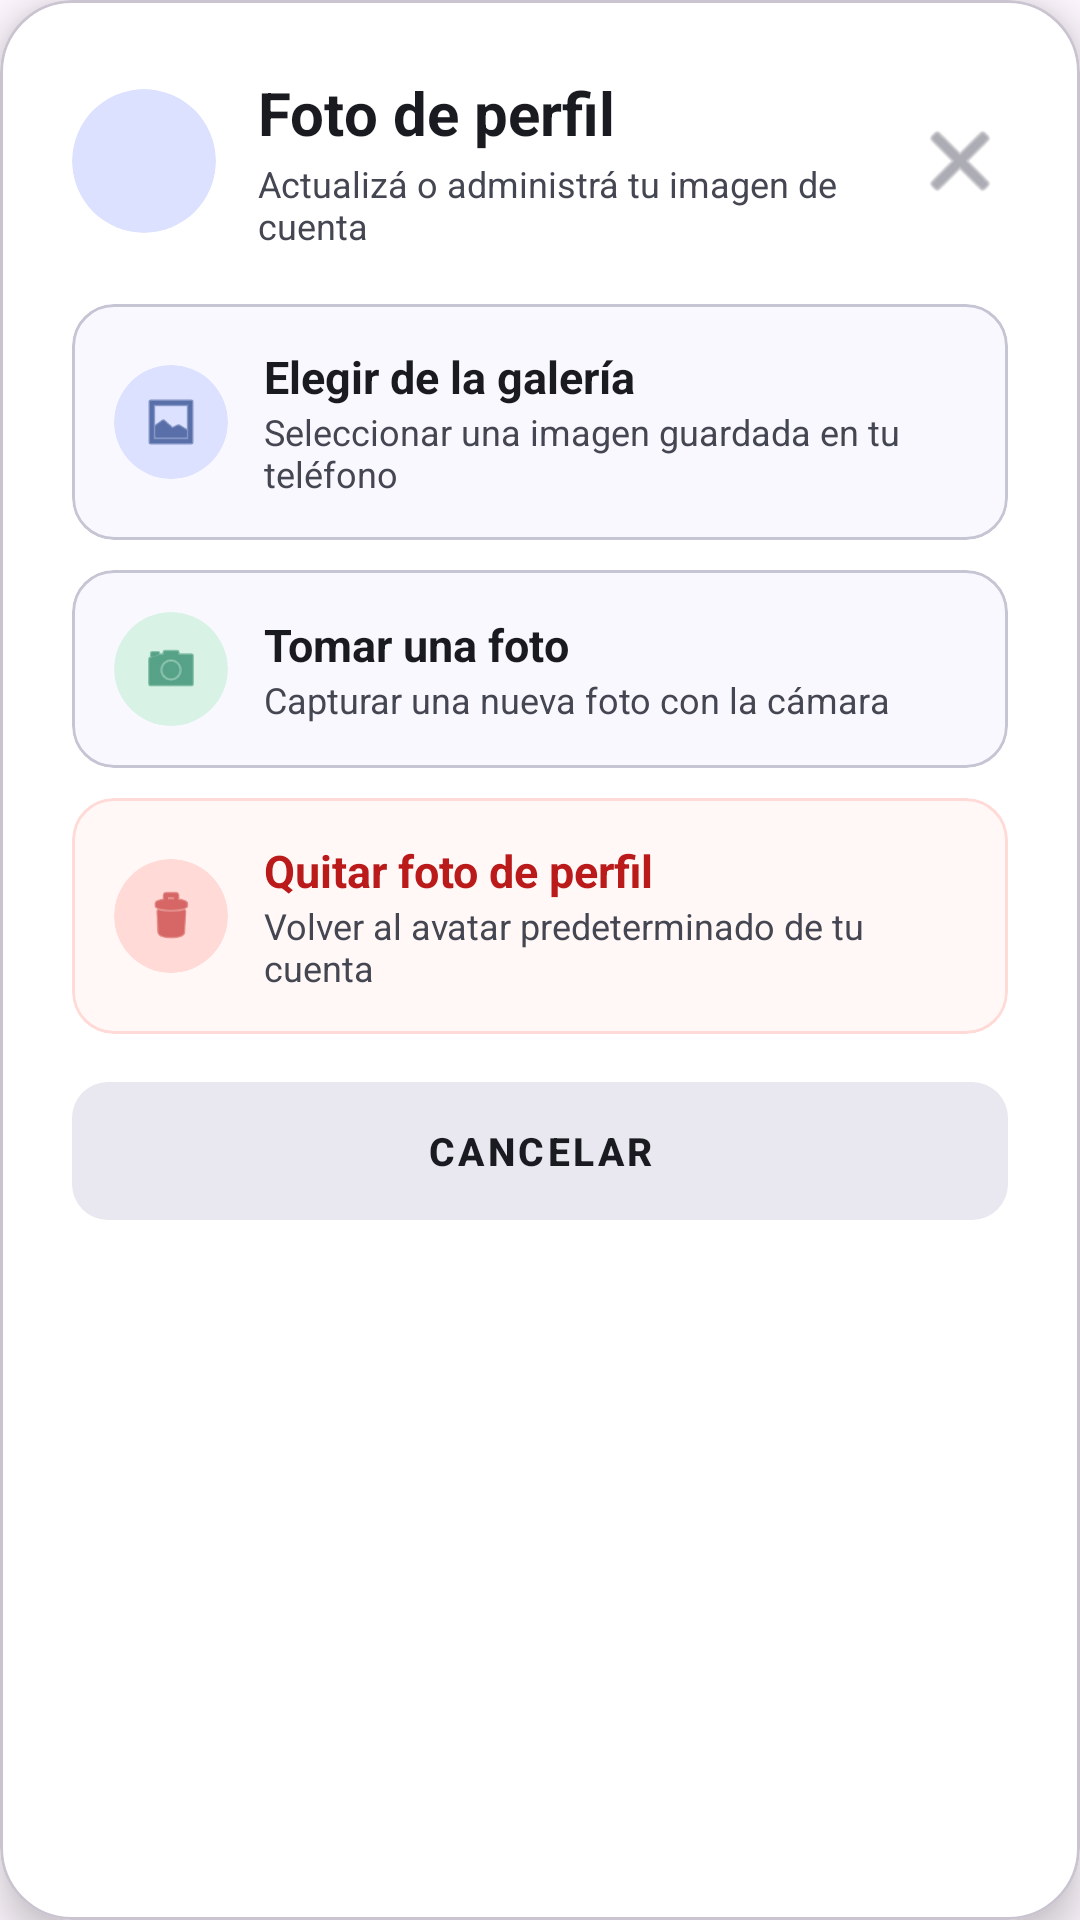

Icons on this 1080px×1920px Android screen, each with the point to tap as (x,y):
camera: (171,668)
Cerrar: (960,161)
delete: (171,915)
gallery: (171,422)
